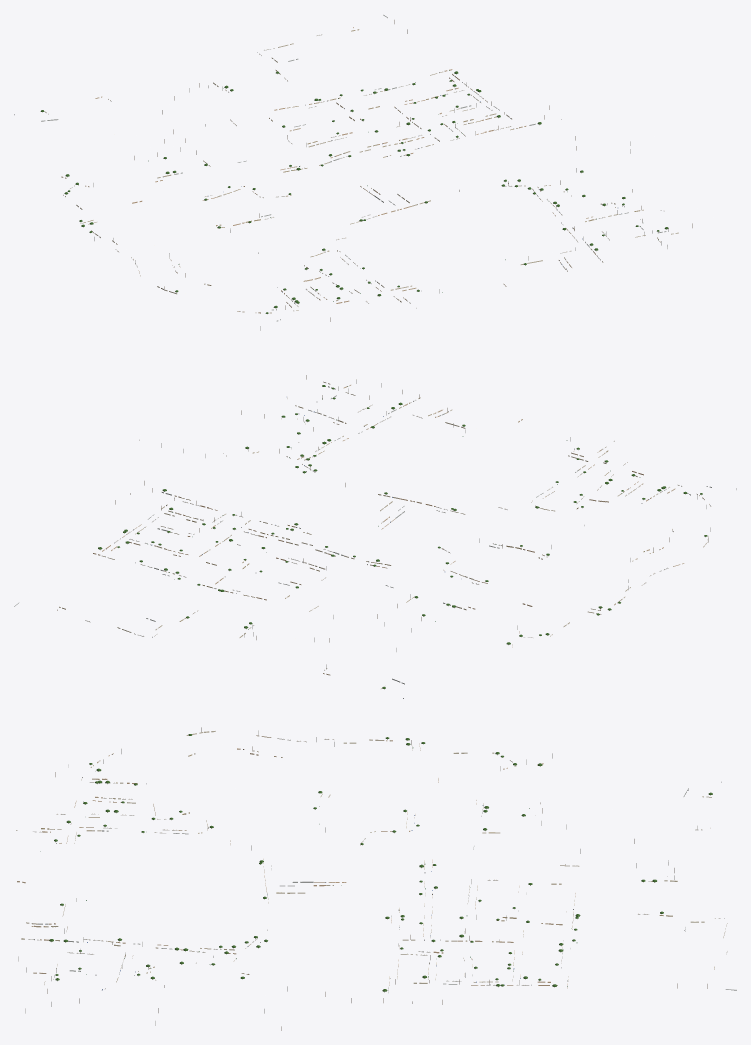
File: nd_stm_m7_m3.glb
The picture shows the model from 3 angles, top to bottom: view 1: azimuth 30°, elevation 25°; view 2: azimuth 150°, elevation 25°; view 3: azimuth 270°, elevation 25°; orthographic projection. The views are drawn at different scales.
Parts seen in each view (by area): view 1: nd_stm_m7_m3_lod0; view 2: nd_stm_m7_m3_lod0; view 3: nd_stm_m7_m3_lod0.
Boxes of the visible parts, left/top/right/bottom form: nd_stm_m7_m3_lod0: left=14, top=15, right=692, bottom=330; nd_stm_m7_m3_lod0: left=14, top=375, right=736, bottom=698; nd_stm_m7_m3_lod0: left=16, top=727, right=736, bottom=1030.
Size of what is drawn, in the model's own units: 983 by 24.55 by 1013.
